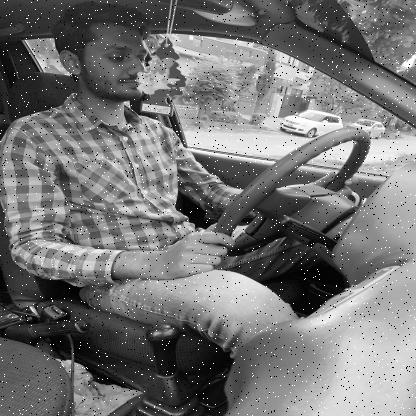no_seatbelt: (49, 7, 178, 221)
